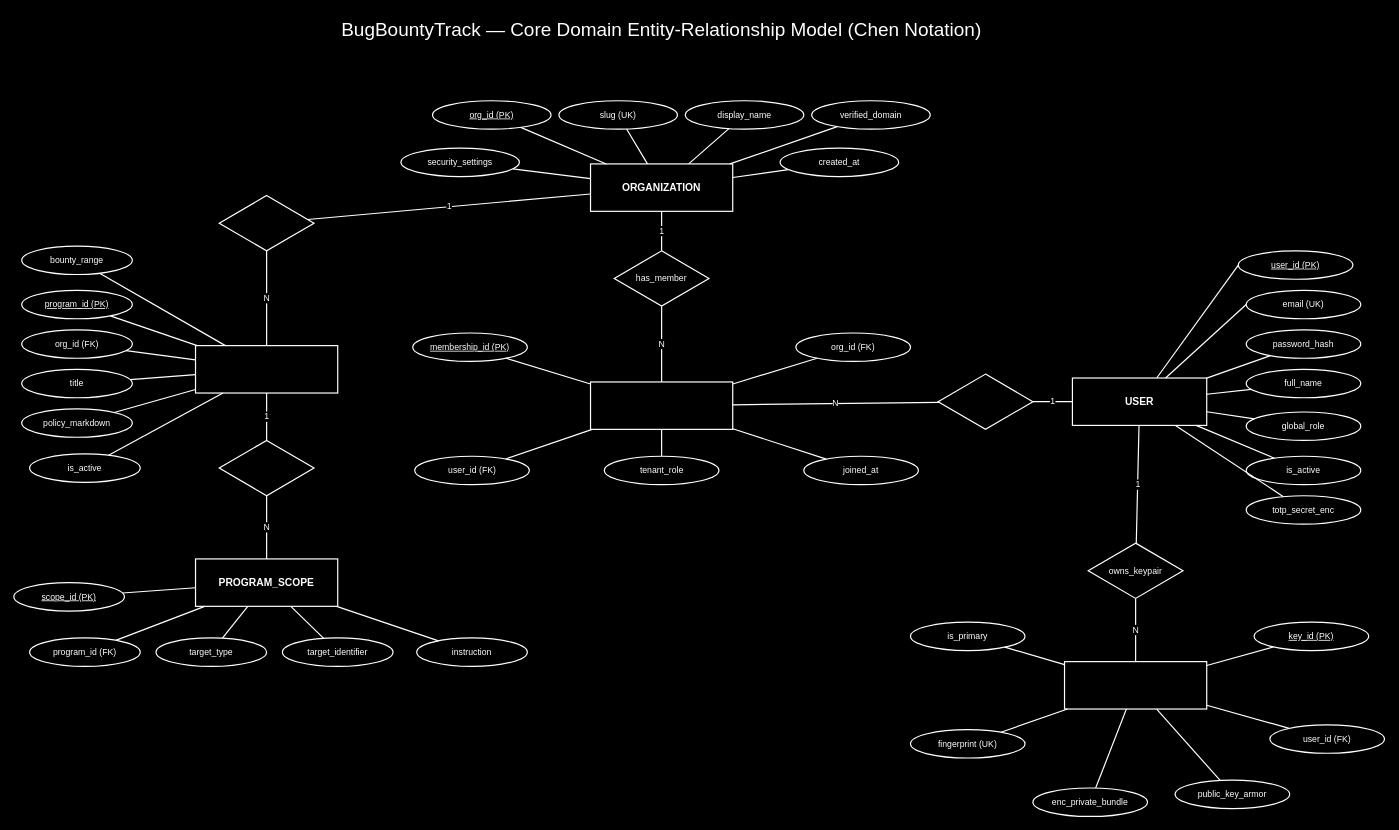
Image size: 1399x830. Some labels were removed from this diagram. Here are the shapes that lost their labels. From the top down, the centre of each, then its label:
the point at 266,223: sponsors
the point at 266,369: BOUNTY_PROGRAM
the point at 661,405: USER_MEMBERSHIP
the point at 985,401: enrolled_in
the point at 266,467: defines_scope
the point at 1135,685: CRYPTO_KEYPAIR
